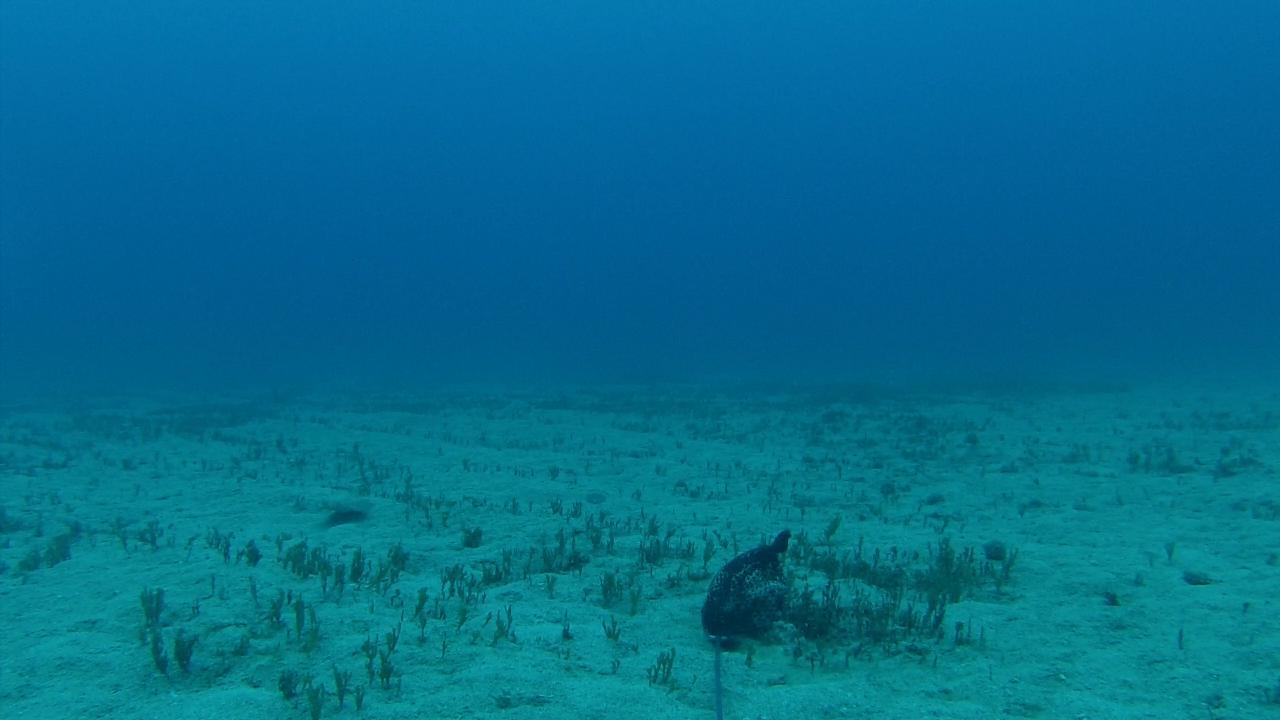bothus: (314, 493, 373, 514)
